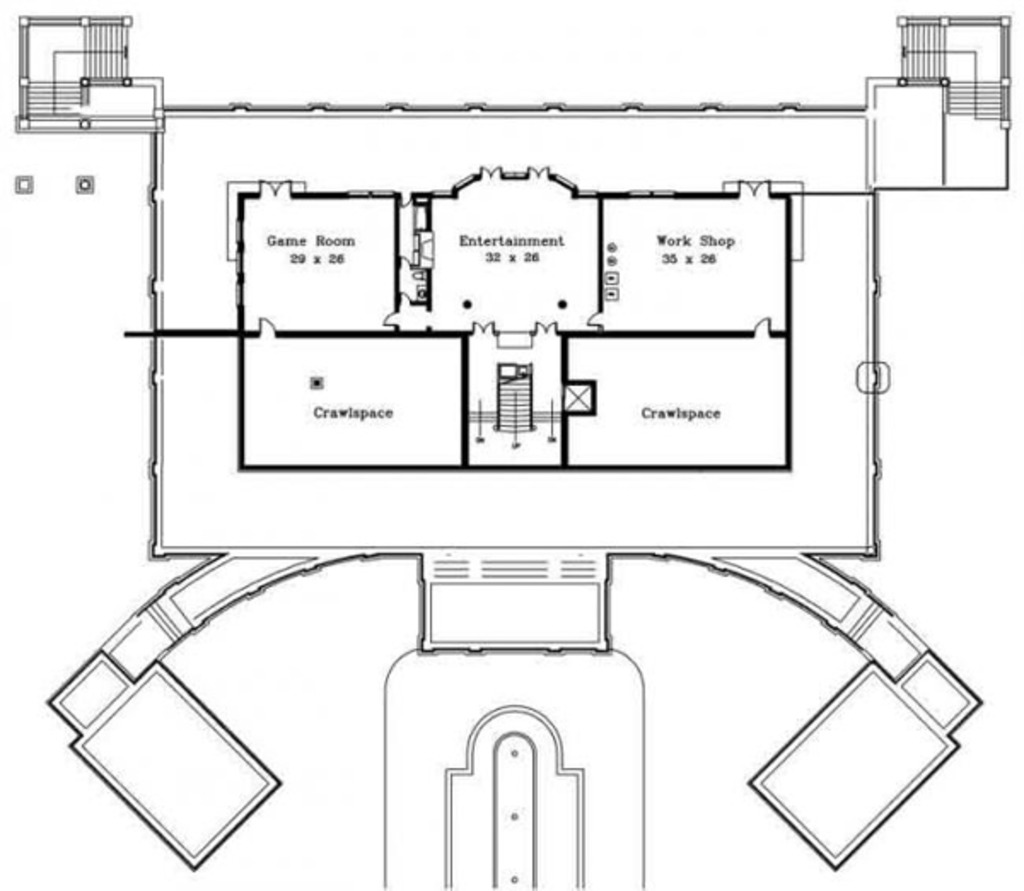door: (732, 175, 780, 201), (257, 178, 295, 203), (523, 160, 554, 186), (392, 287, 419, 314), (535, 313, 561, 340), (255, 316, 280, 341), (469, 317, 497, 339), (477, 163, 500, 186), (755, 317, 776, 341), (384, 307, 400, 330), (584, 309, 601, 326), (396, 187, 409, 207), (397, 259, 409, 279)
stairs: (15, 14, 157, 129), (893, 13, 1016, 137), (481, 362, 542, 443)
